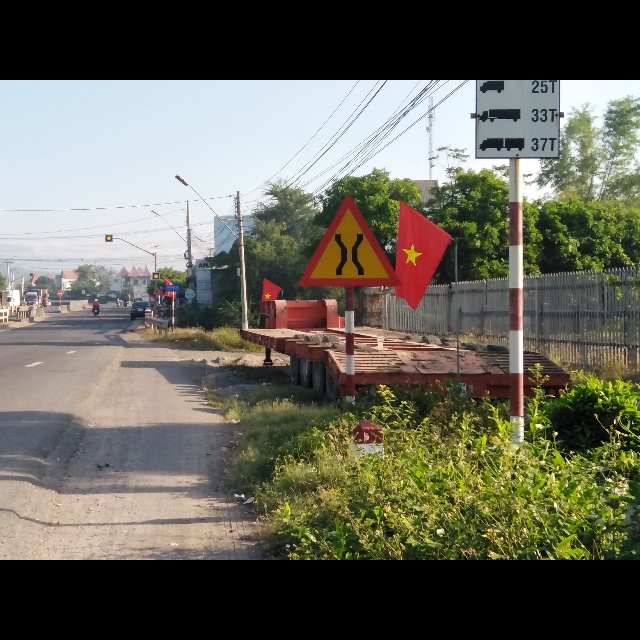Cầu hẹp: (295, 194, 401, 288)
